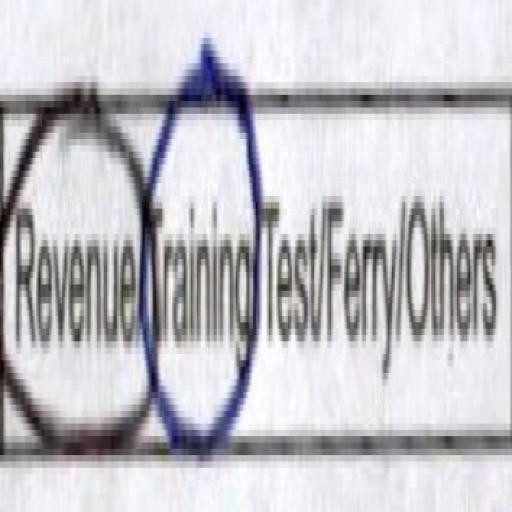check: (0, 0, 142, 512), (149, 0, 261, 512)
